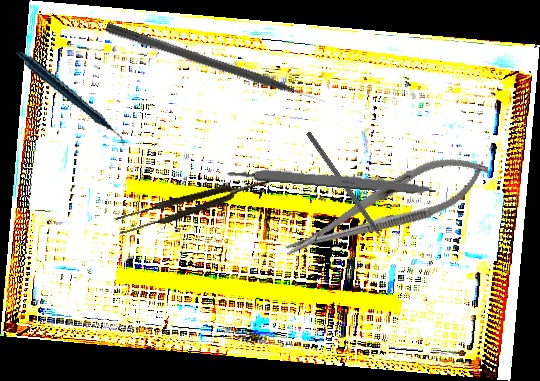Handpiece: (16, 32, 125, 166)
Hook Surgical: (304, 131, 392, 252)
Needle Holder: (274, 138, 499, 276)
Pusher: (104, 21, 327, 110)
Scalpel Handle: (225, 163, 439, 197)
Tissue Forceps: (113, 165, 295, 237)
